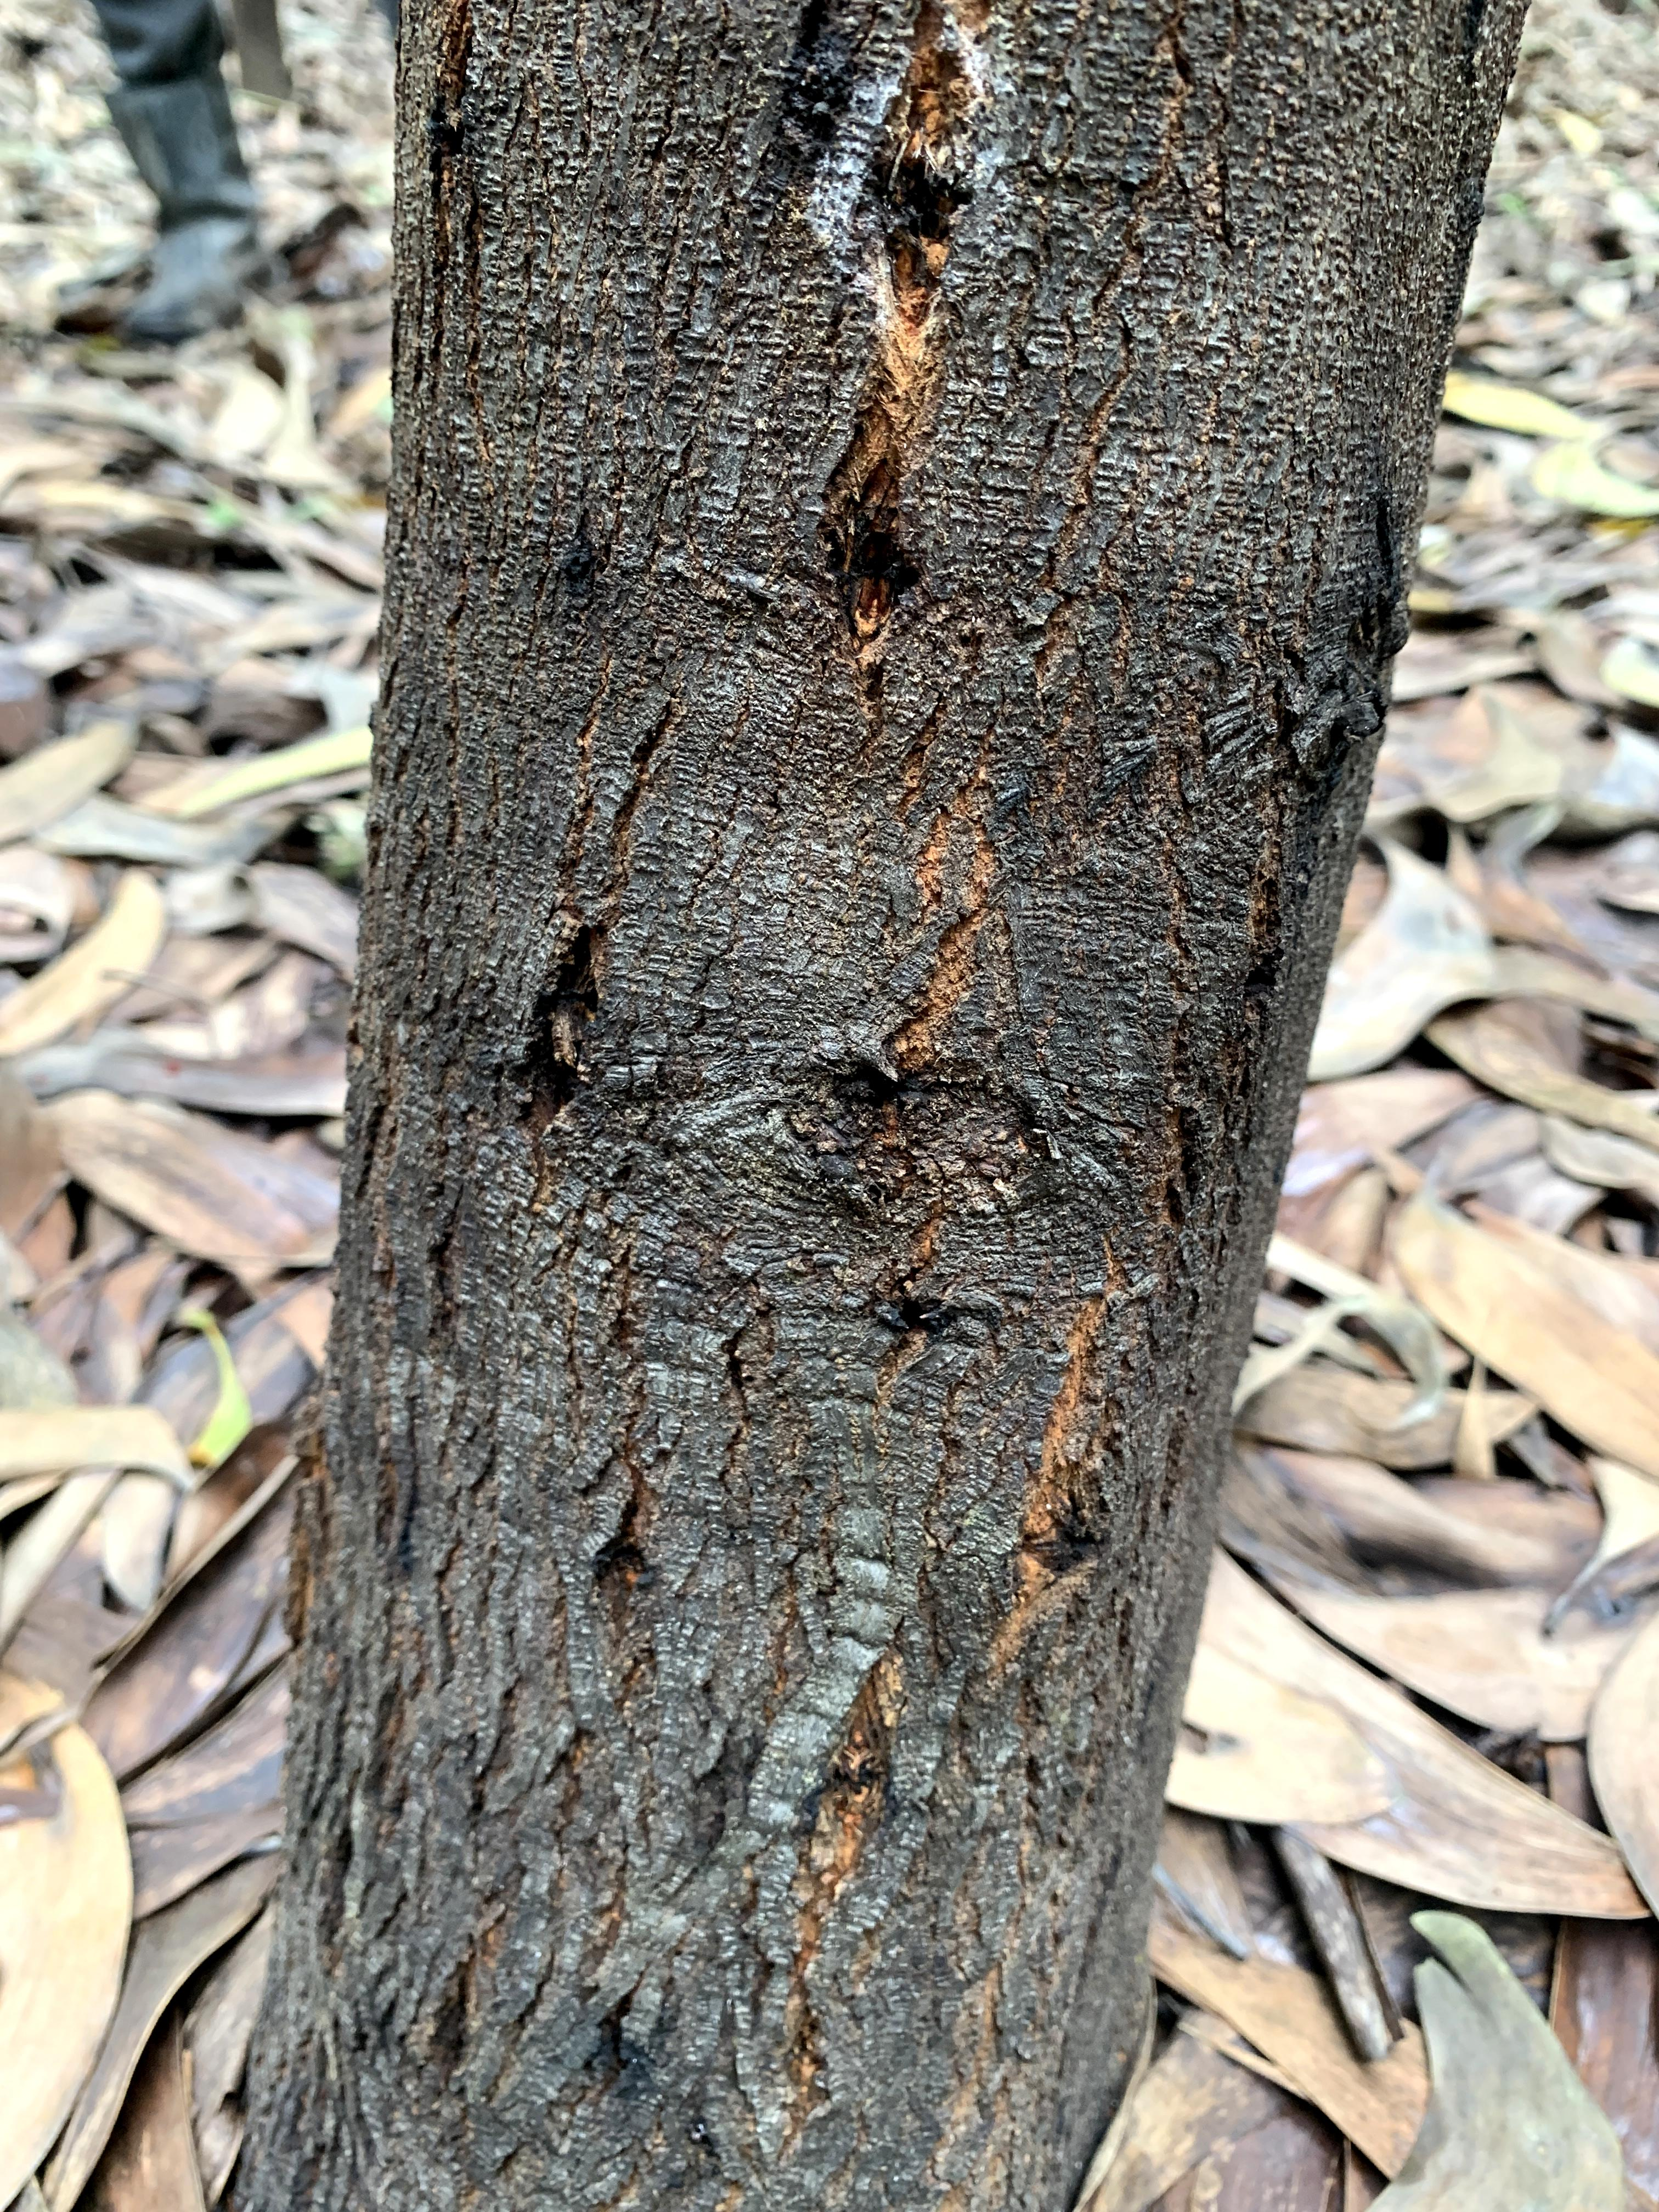Stem Borer: (758, 50, 1069, 432), (747, 440, 1052, 708), (780, 1016, 1008, 1344), (1142, 950, 1337, 1309), (1290, 418, 1425, 861), (555, 1460, 727, 1752), (489, 862, 644, 1164), (566, 1971, 749, 2204), (385, 12, 534, 256), (994, 1444, 1144, 1629)
